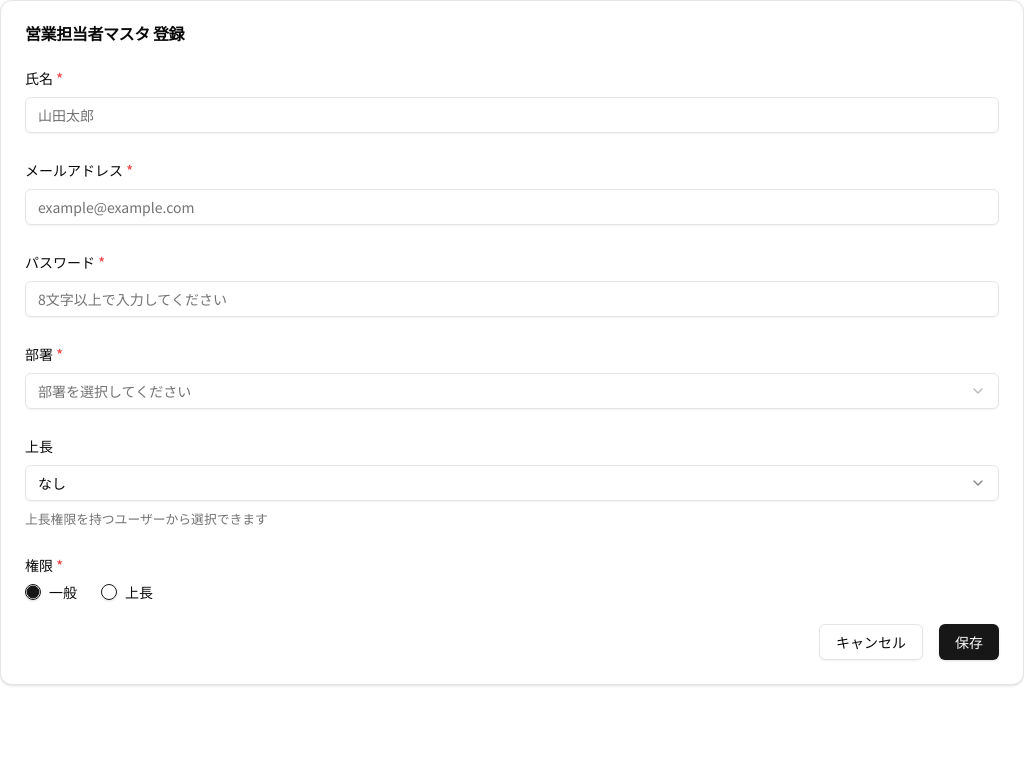
Scenario: SalesPersonForm › validation - create mode › should show email validation error
Type "テスト" into the field labelled "氏名 *".
click(512, 115); type("テスト")  # box x1=25 y1=97 x2=999 y2=133
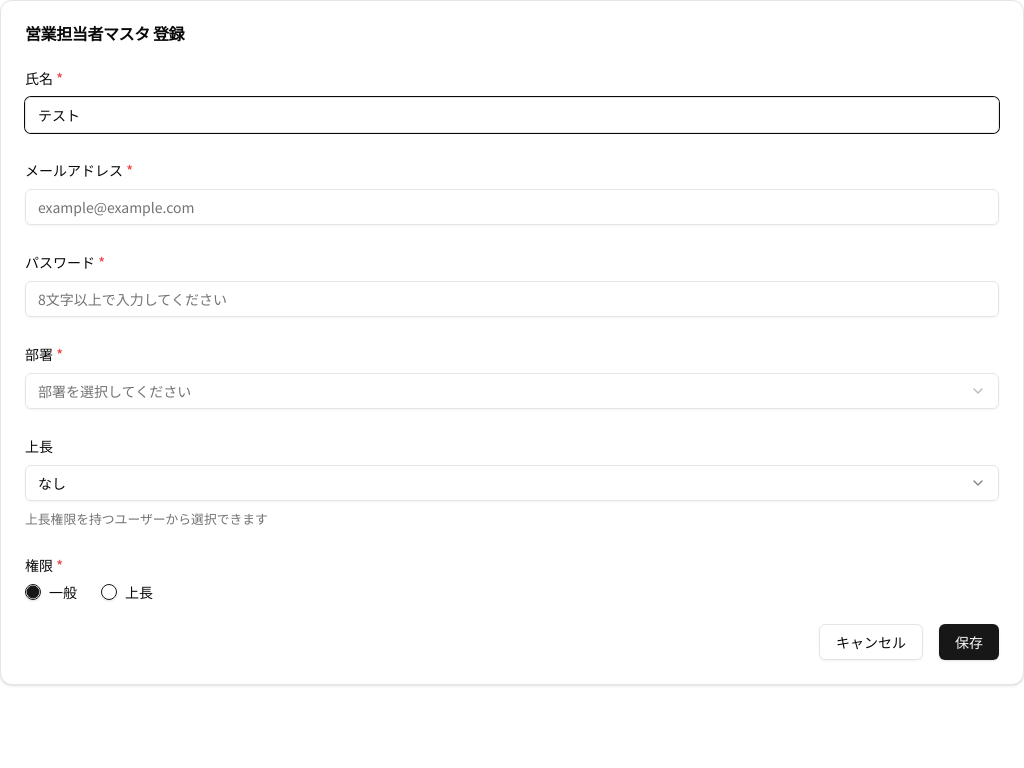
Click the button "保存".
click(969, 642)  # box x1=939 y1=624 x2=999 y2=660
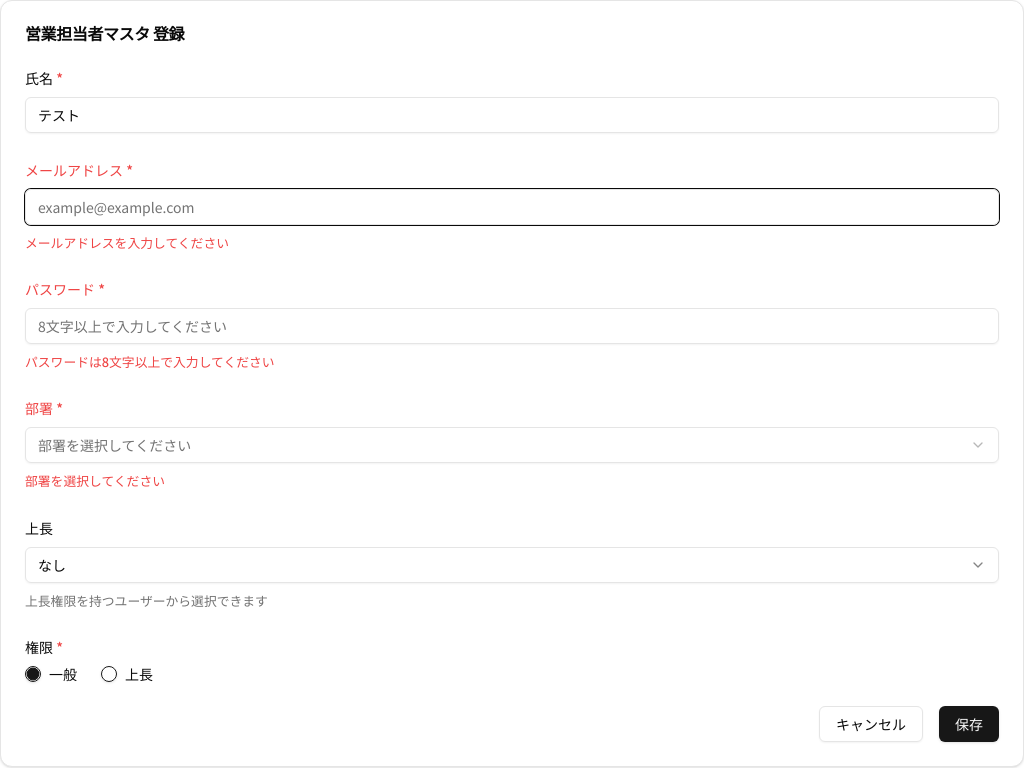
Now the text "メールアドレスを入力してください" is shown, box x1=25 y1=233 x2=229 y2=252
